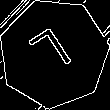L_SE: (27, 24, 81, 83)
